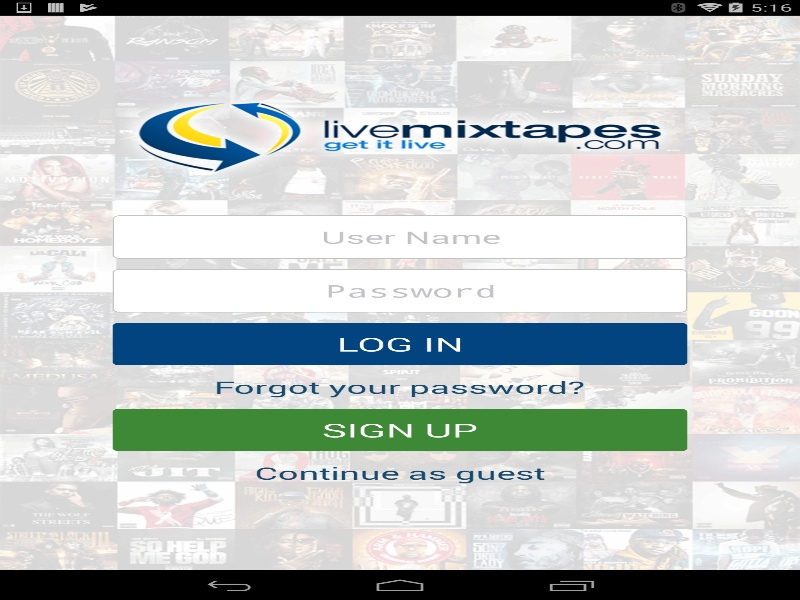Button: (112, 408, 687, 451)
Input: (112, 215, 687, 258), (112, 269, 687, 312)
